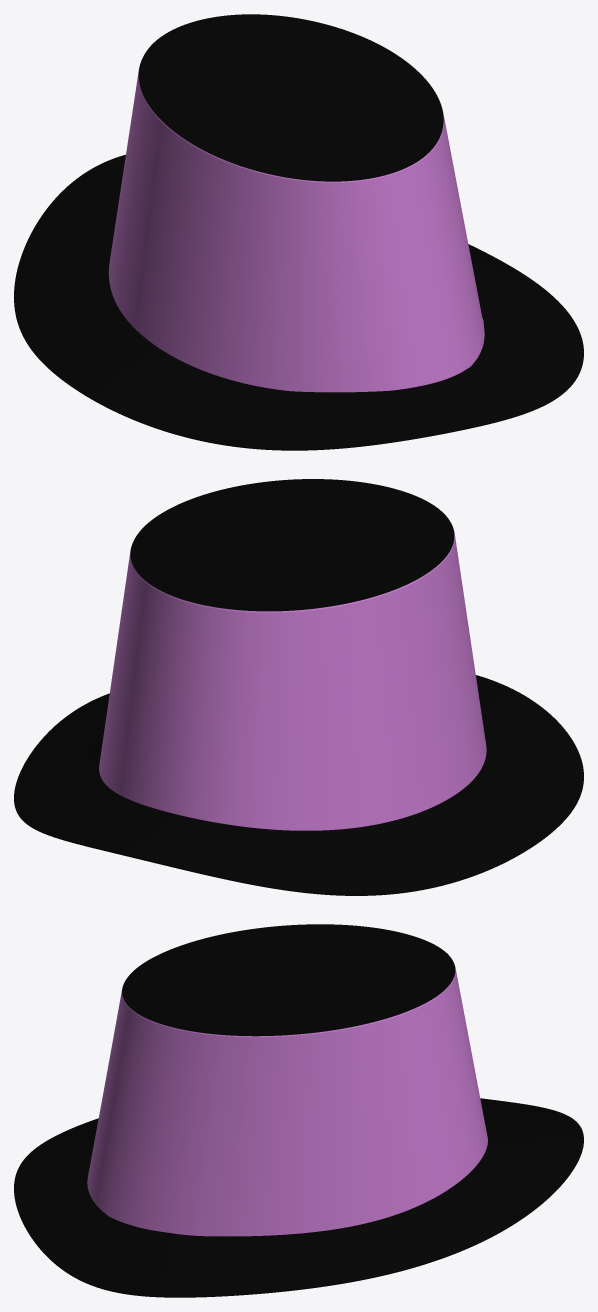
Rendered from PAPER_hat.fbx.
3 renders of one model, top to bottom at view 1: azimuth 30°, elevation 25°; view 2: azimuth 150°, elevation 25°; view 3: azimuth 270°, elevation 25°, orthographic. The views are drawn at different scales.
Visible parts, largest first — view 1: Shape002, Shape003, Group001; view 2: Shape002, Shape003, Group001; view 3: Shape002, Shape003, Group001.
Boxes of the visible parts, <box> form: Shape002: <box>108,63,484,392</box>; Shape003: <box>14,154,583,450</box>; Group001: <box>139,14,443,181</box>; Shape002: <box>99,526,486,830</box>; Shape003: <box>14,675,583,895</box>; Group001: <box>130,479,454,611</box>; Shape002: <box>87,965,487,1236</box>; Shape003: <box>14,1098,583,1297</box>; Group001: <box>122,924,455,1036</box>.
Size of the model in its own units: 0.2617 by 0.1394 by 0.3061.
